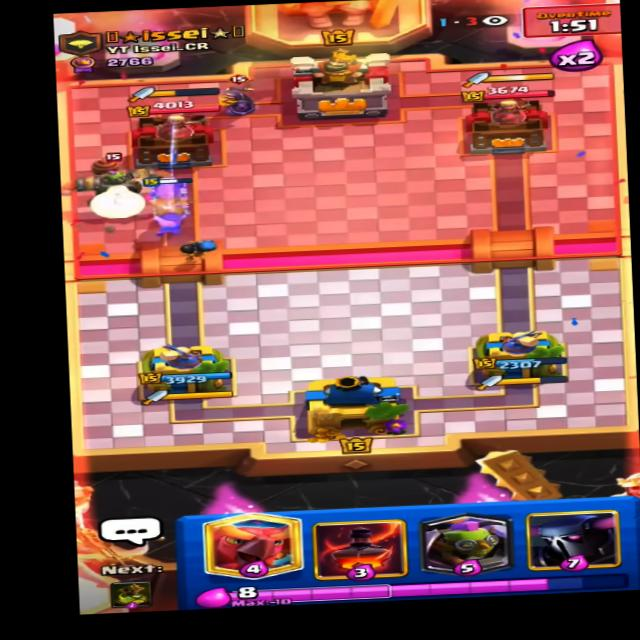evo-knight: (214, 75, 257, 121)
goblin-machine: (65, 147, 184, 209)
